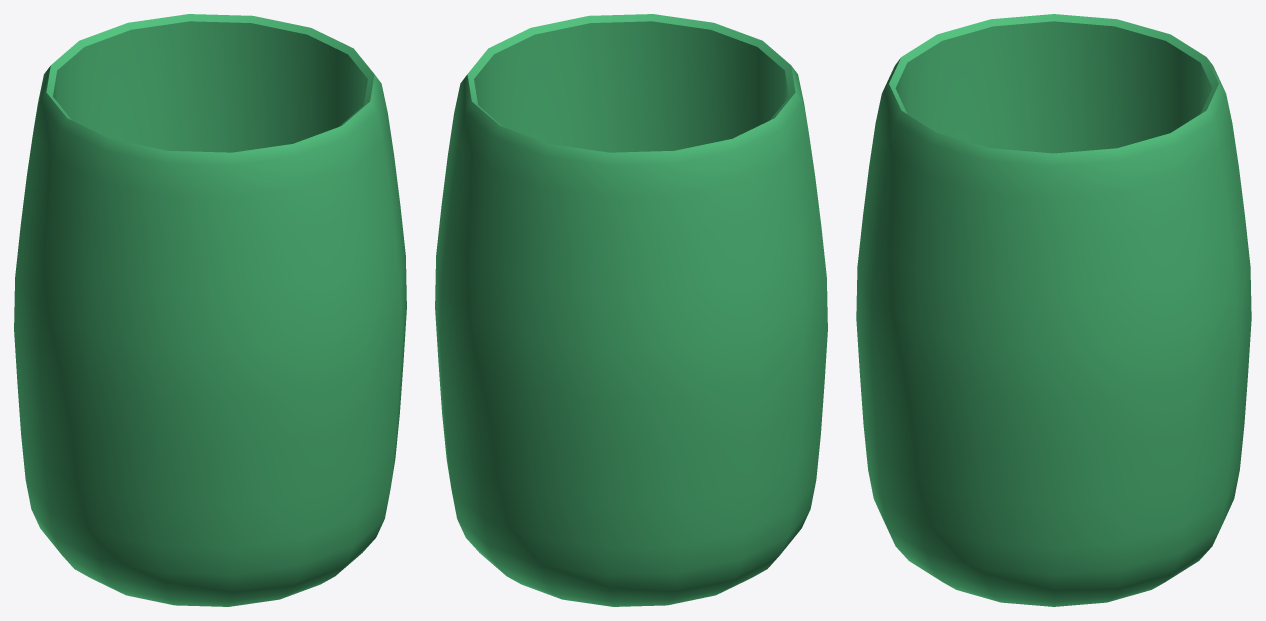
The model's file is pot_02.fbx.
3 renders of one model, left to right at view 1: azimuth 30°, elevation 25°; view 2: azimuth 150°, elevation 25°; view 3: azimuth 270°, elevation 25°, orthographic.
Visible parts, largest first — view 1: pCylinder97; view 2: pCylinder97; view 3: pCylinder97.
Part boxes in pixels (box(x1,y1,x2,y2)): pCylinder97: box(14, 14, 406, 606); pCylinder97: box(435, 14, 827, 606); pCylinder97: box(856, 14, 1251, 606).
Size of the model in its own units: 0.2838 by 0.3791 by 0.2838.
